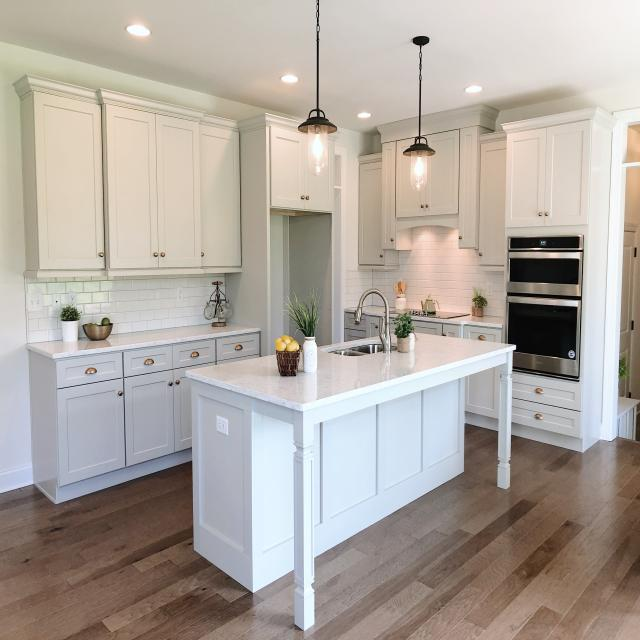Appliance_Oven: (507, 298, 581, 377), (507, 237, 581, 296)
Cabinet_Shaker: (34, 92, 242, 273), (358, 125, 585, 270), (53, 331, 263, 487), (270, 124, 339, 213), (511, 375, 581, 437), (465, 368, 500, 430), (414, 318, 501, 342), (344, 310, 380, 341)
Countertop_Granite: (188, 334, 518, 408), (29, 324, 257, 355), (411, 315, 503, 327), (362, 307, 384, 318), (388, 307, 397, 320)
